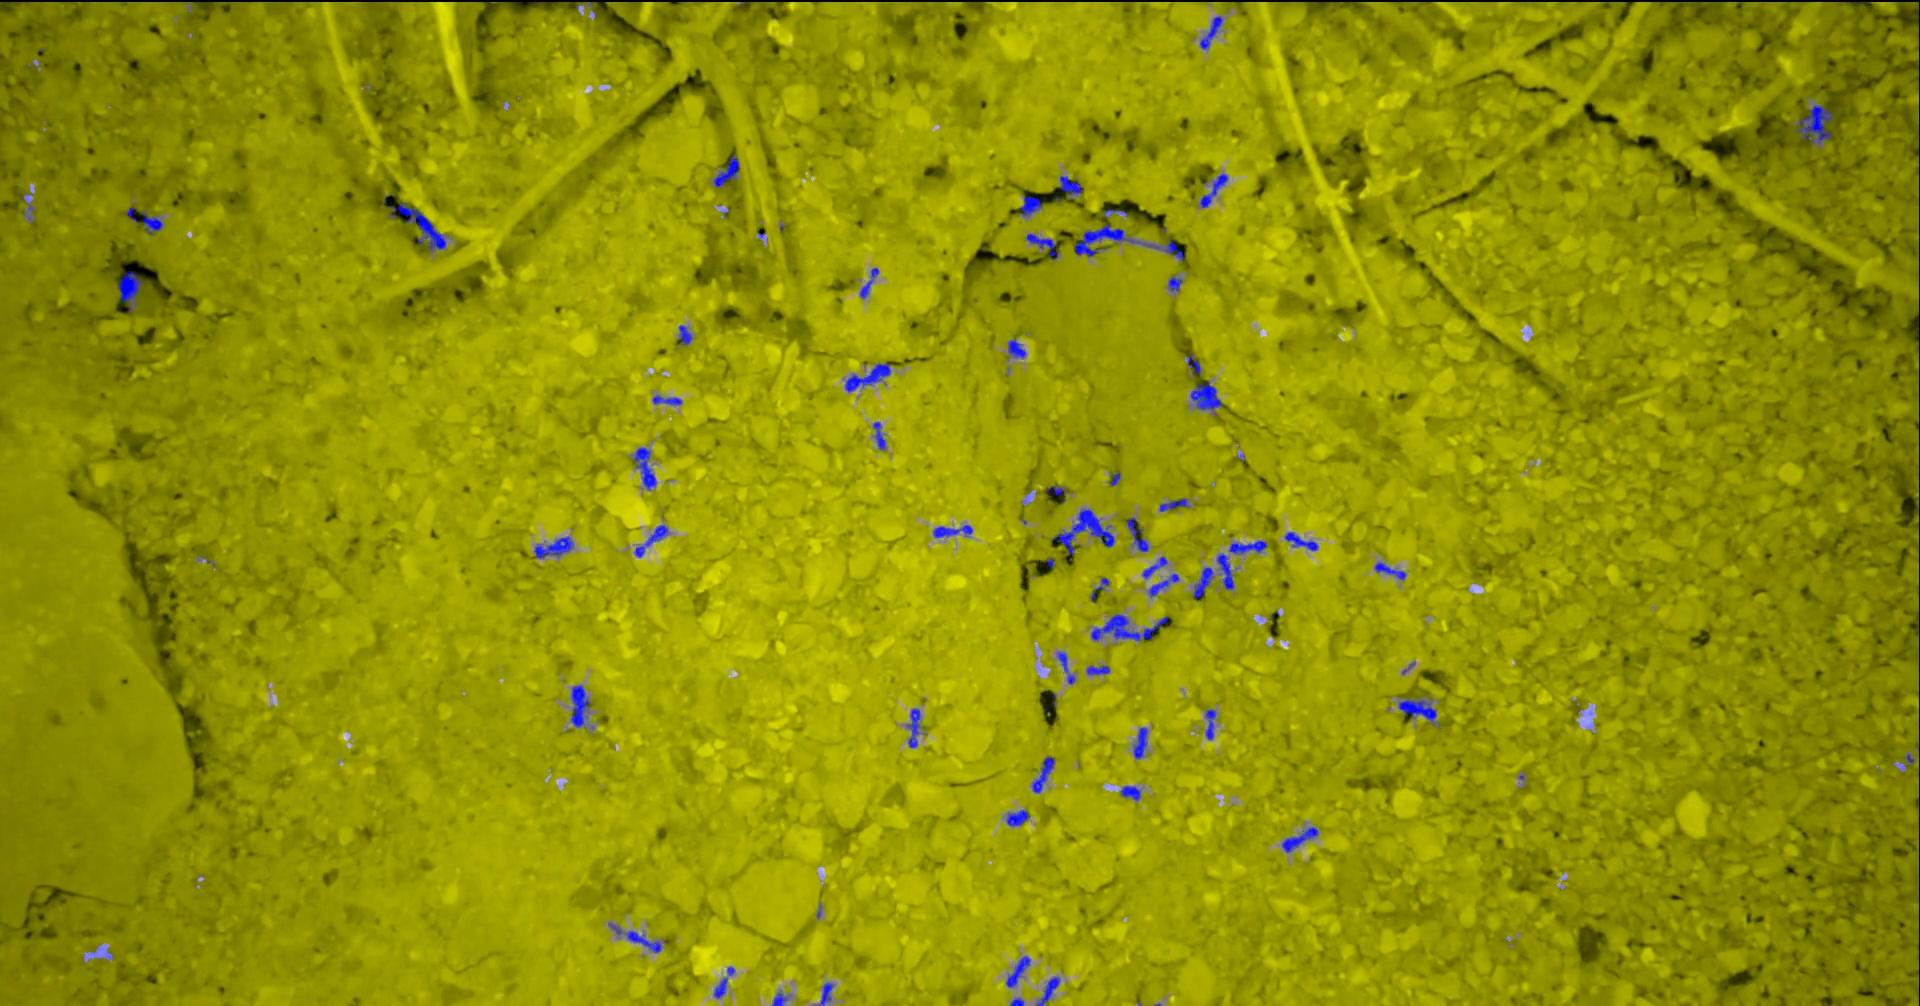ant: (1051, 508, 1114, 556), (1074, 224, 1161, 257), (387, 202, 444, 249), (1090, 614, 1167, 640), (608, 922, 665, 951), (1796, 104, 1831, 144), (844, 362, 890, 391), (634, 525, 667, 558), (117, 271, 142, 311), (126, 206, 163, 234), (632, 447, 657, 489), (1190, 380, 1222, 412), (1199, 173, 1227, 207), (1281, 826, 1317, 852), (1398, 699, 1436, 723), (712, 152, 739, 187), (1025, 232, 1059, 259), (1031, 754, 1054, 793), (533, 536, 573, 558), (570, 683, 589, 727), (1004, 955, 1030, 987), (1199, 17, 1222, 50), (1126, 517, 1148, 551), (1148, 573, 1178, 597), (1035, 976, 1059, 1005), (1192, 567, 1213, 600), (1217, 553, 1234, 589), (1284, 531, 1318, 550), (858, 267, 877, 298), (1057, 652, 1074, 683), (1228, 540, 1267, 554), (905, 708, 919, 747), (1374, 561, 1404, 579), (1142, 556, 1166, 578), (1163, 235, 1183, 260), (932, 525, 971, 537), (1059, 175, 1082, 196), (1018, 196, 1041, 216), (1133, 727, 1147, 758), (1090, 577, 1109, 600), (1006, 809, 1029, 826), (1159, 498, 1189, 511), (872, 420, 885, 448), (818, 982, 833, 1005), (1007, 338, 1025, 357), (712, 977, 728, 998), (1186, 352, 1200, 375), (1205, 709, 1215, 739), (1120, 785, 1140, 800), (677, 325, 692, 344), (1046, 485, 1064, 500), (651, 395, 681, 404), (771, 991, 787, 1005), (1168, 276, 1182, 291), (1086, 666, 1109, 674)
